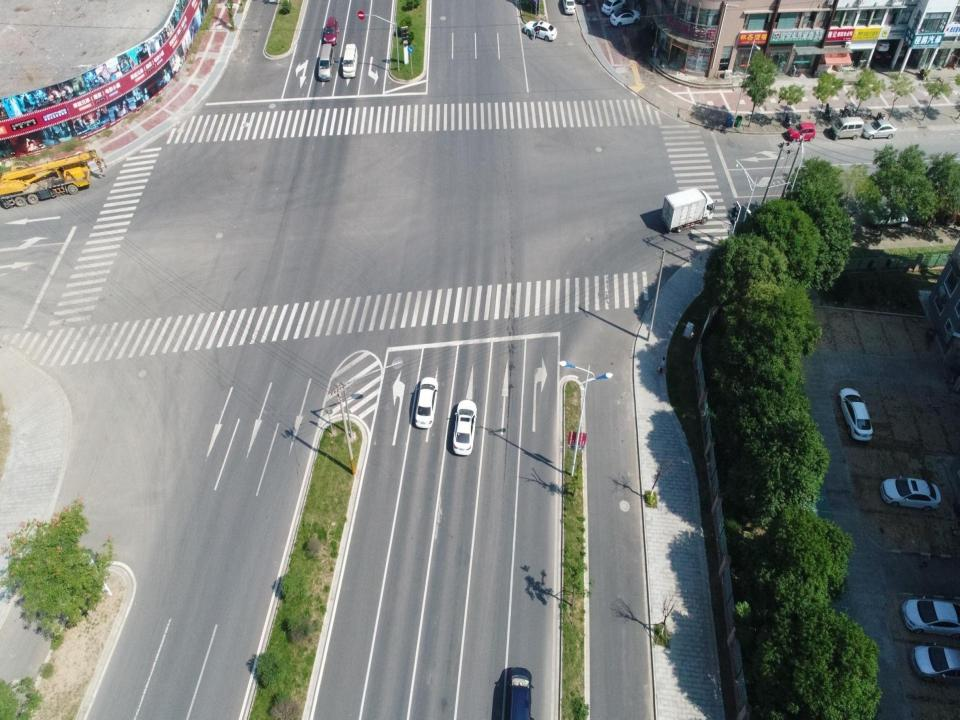car: (662, 186, 714, 233), (836, 387, 874, 450), (900, 597, 959, 637), (879, 477, 944, 507), (910, 643, 959, 678), (452, 393, 476, 456), (502, 668, 531, 720), (414, 376, 439, 428), (829, 116, 864, 140), (784, 120, 816, 144), (316, 42, 334, 82), (521, 22, 556, 42), (861, 120, 899, 138), (340, 44, 358, 80), (608, 9, 644, 26), (598, 0, 628, 15), (320, 17, 336, 43), (562, 0, 575, 15)
truck: (0, 152, 106, 209)
